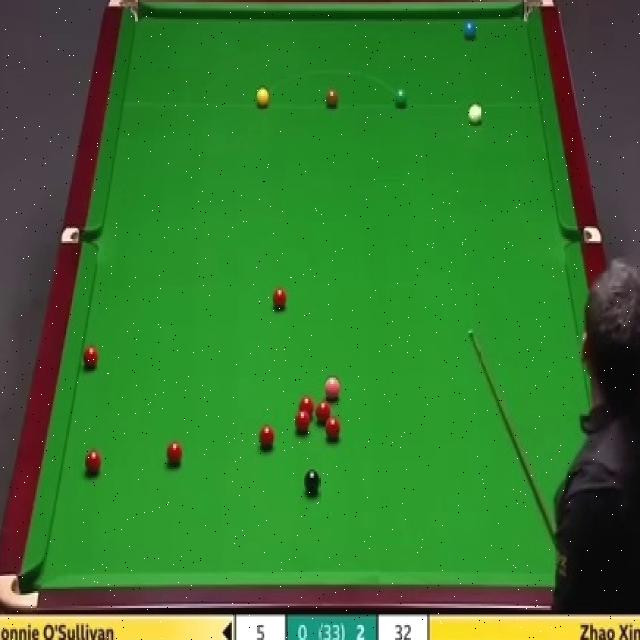black-ball: (304, 469, 322, 497)
blue-ball: (462, 15, 478, 41)
brown-ball: (325, 88, 340, 110)
green-ball: (394, 88, 408, 110)
pink-ball: (321, 376, 341, 402)
red-ball: (85, 443, 104, 472), (271, 286, 289, 312), (165, 441, 183, 466), (294, 410, 311, 436), (81, 344, 98, 370), (298, 395, 315, 418), (325, 416, 341, 440), (318, 399, 336, 420), (260, 424, 274, 451)
white-ball: (465, 101, 484, 127)
yellow-ball: (256, 87, 270, 109)
